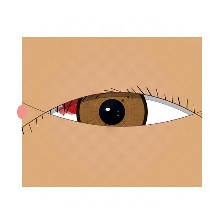hemorrhage_spot: (52, 75, 117, 127)
